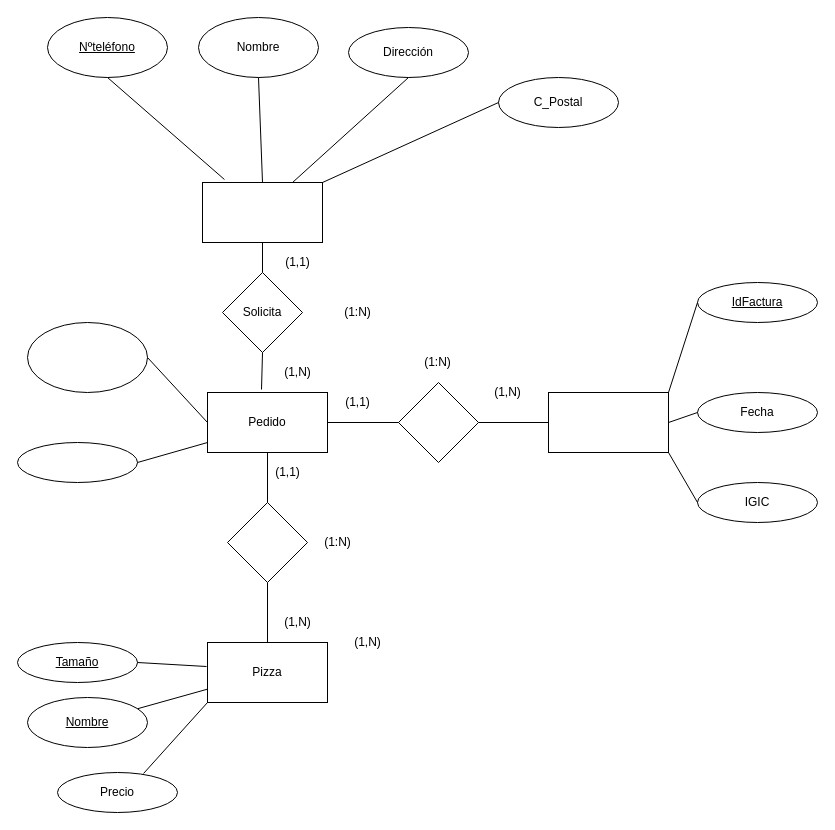
Image size: 835x830. Some labels were removed from this diagram. The shapes that lost their labels are listed below. From the top down, each one's centre as x and y in pixels, then its label:
the point at 262,212: Cliente
the point at 87,357: NúmeroPedido
the point at 438,422: Genera
the point at 608,422: Factura
the point at 77,462: Cantidad
the point at 267,542: Contiene
